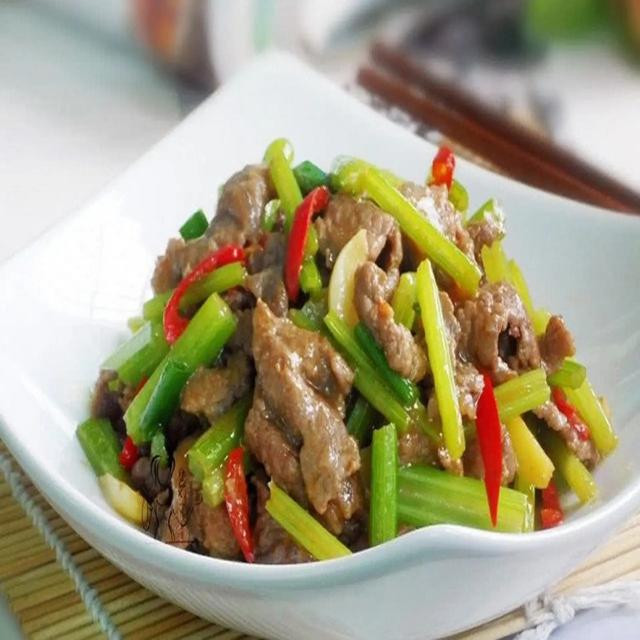bo xao: (77, 138, 615, 564)
